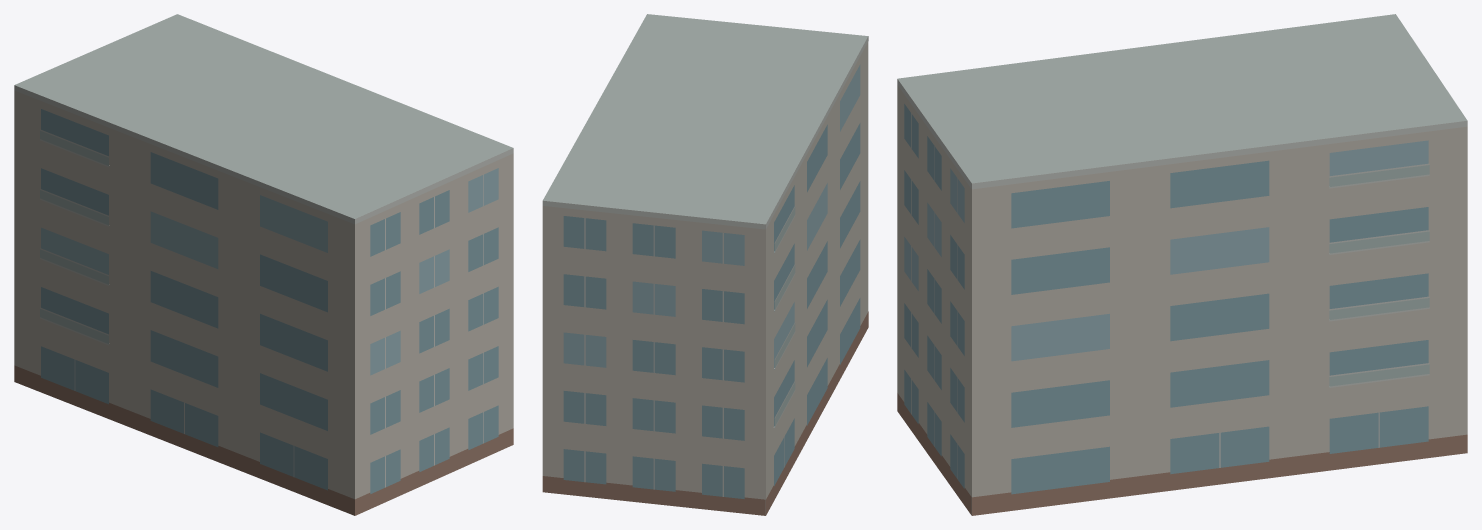
File: survey-upis-32611807.glb
3 renders of one model, left to right at view 1: azimuth 30°, elevation 25°; view 2: azimuth 150°, elevation 25°; view 3: azimuth 270°, elevation 25°, orthographic. The views are drawn at different scales.
Parts seen in each view (by area): view 1: survey-upis-32611807.tmp; view 2: survey-upis-32611807.tmp; view 3: survey-upis-32611807.tmp.
Boxes of the visible parts, x1=… form: survey-upis-32611807.tmp: x1=14, y1=14, x2=513, y2=515; survey-upis-32611807.tmp: x1=542, y1=14, x2=868, y2=515; survey-upis-32611807.tmp: x1=897, y1=14, x2=1467, y2=515.
Bounding box in the file's own units: 15.1 × 13.8 × 21.47.
